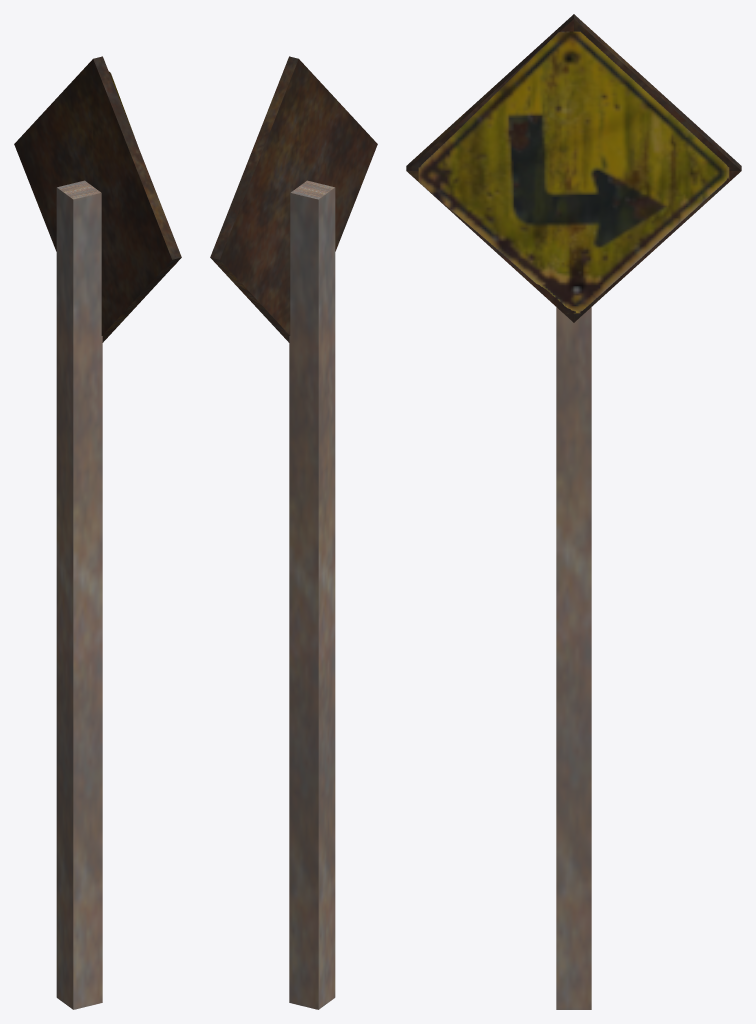
The model's file is signwarningrusty.obj.
3 renders of one model, left to right at view 1: azimuth 30°, elevation 25°; view 2: azimuth 150°, elevation 25°; view 3: azimuth 270°, elevation 25°, orthographic. The views are drawn at different scales.
Parts seen in each view (by area): view 1: cube, cylinder; view 2: cube, cylinder; view 3: plane, cube, cylinder.
Boxes of the visible parts, bbox=[...] form: cube: bbox=[56, 180, 102, 1009]; cylinder: bbox=[14, 56, 181, 342]; cube: bbox=[289, 180, 335, 1009]; cylinder: bbox=[210, 56, 377, 342]; plane: bbox=[418, 31, 729, 313]; cube: bbox=[556, 307, 591, 1009]; cylinder: bbox=[406, 14, 741, 322].
Size of the model in its own units: 0.125 by 2.89 by 0.8839.
Materials: 3 (3 with a texture image).
